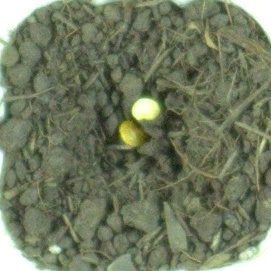chilli seed: (117, 119, 149, 147), (130, 97, 162, 122)
